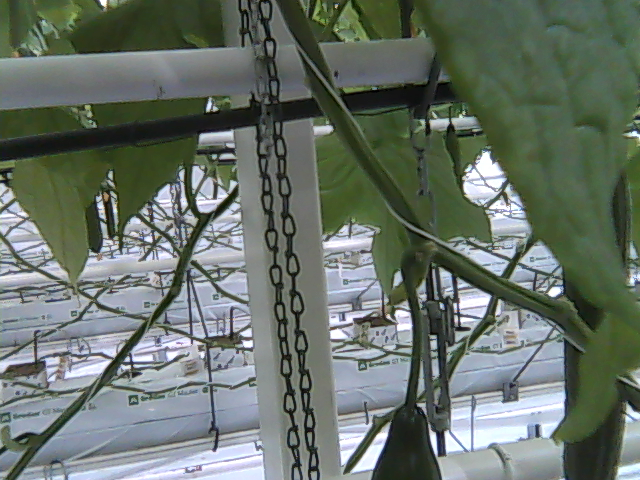concombre: (561, 178, 630, 480), (373, 399, 445, 480)
